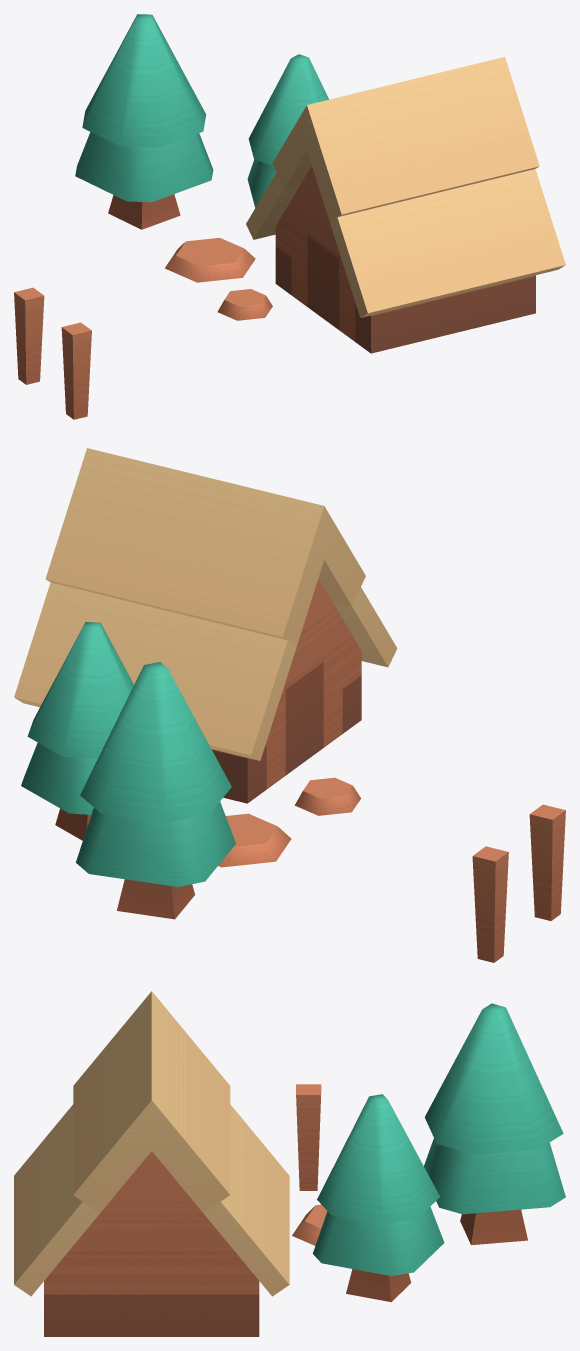
Rendered from hx_building-dock.glb.
The picture shows the model from 3 angles, top to bottom: view 1: azimuth 30°, elevation 25°; view 2: azimuth 150°, elevation 25°; view 3: azimuth 270°, elevation 25°; orthographic projection. The views are drawn at different scales.
Size of the model in its own units: 0.756 by 0.4781 by 0.7692.
1 material, 1 textured.
